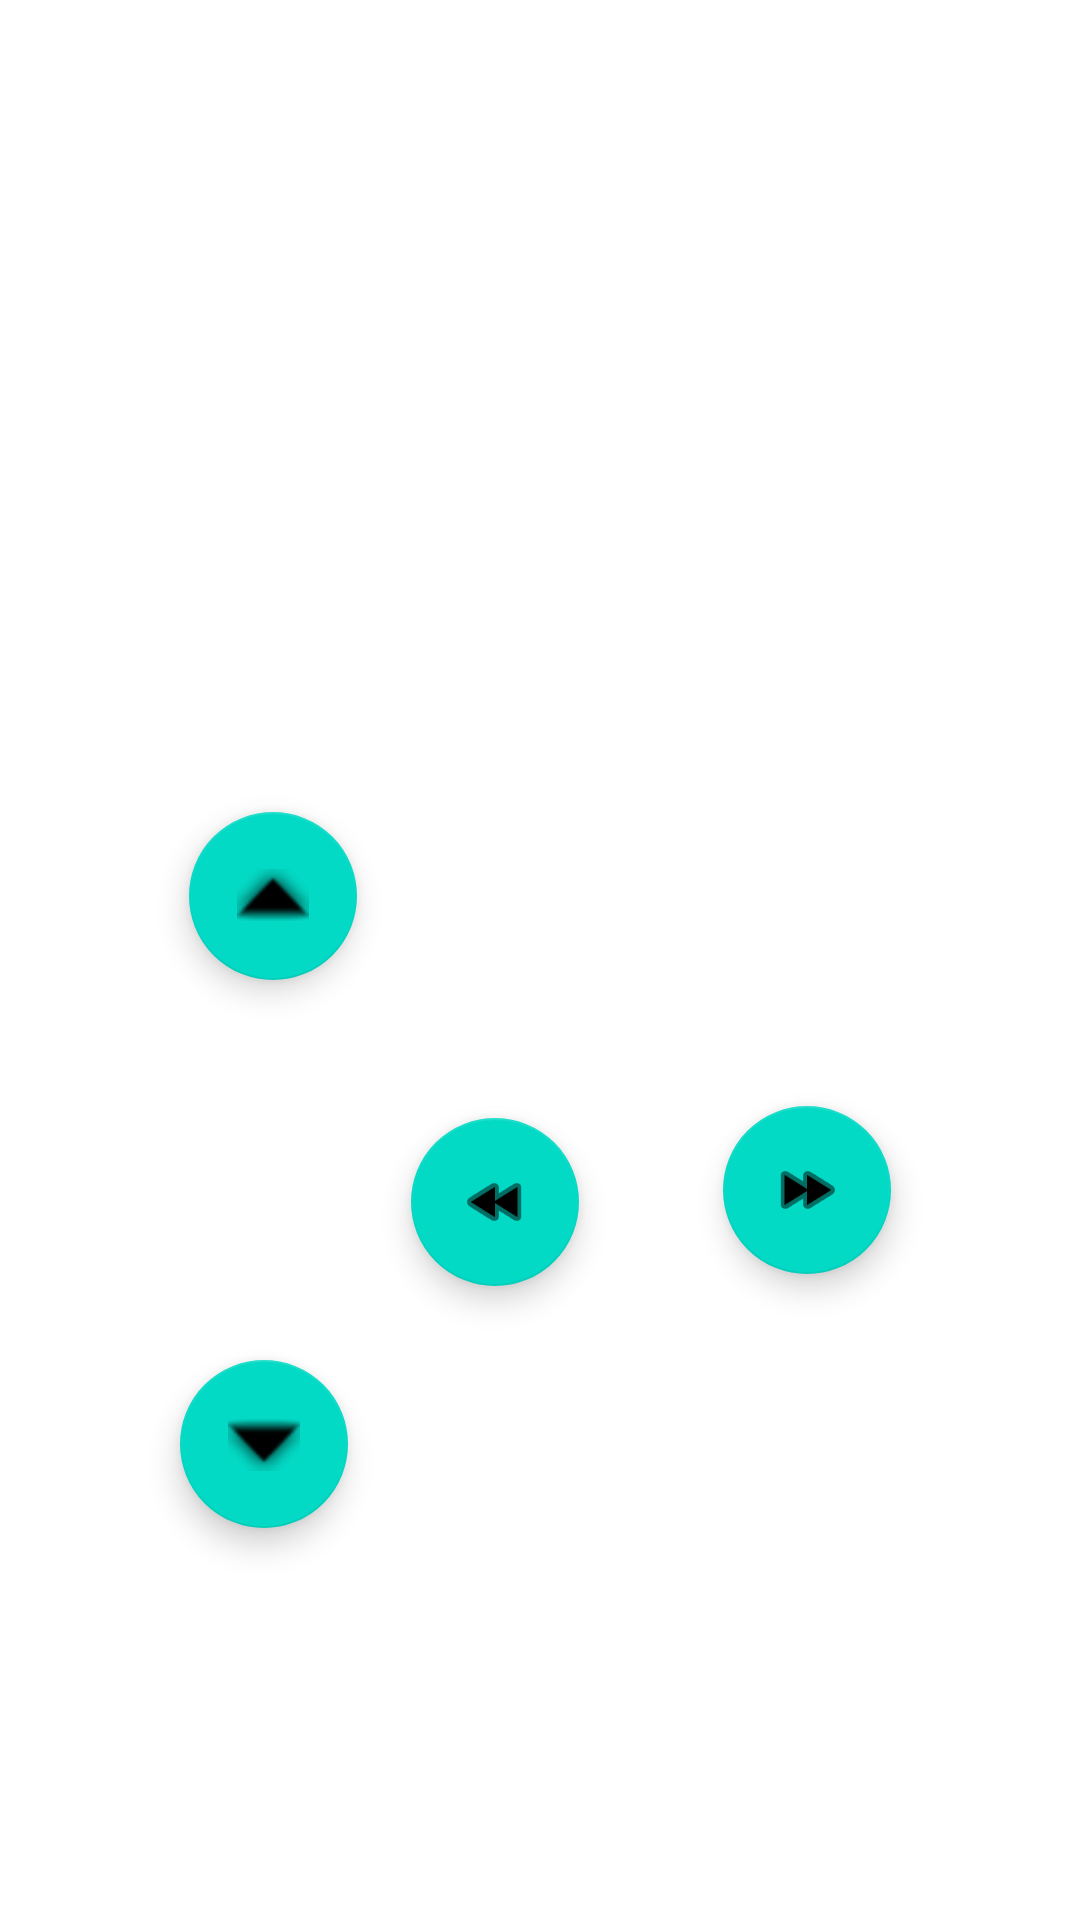

Where icons sit on this 1080w x 1920h app screen, as detection(x1, y1, x2, y2):
arrow down float: detection(180, 1360, 348, 1528)
arrow up float: detection(189, 812, 357, 980)
rew: detection(411, 1118, 579, 1286)
